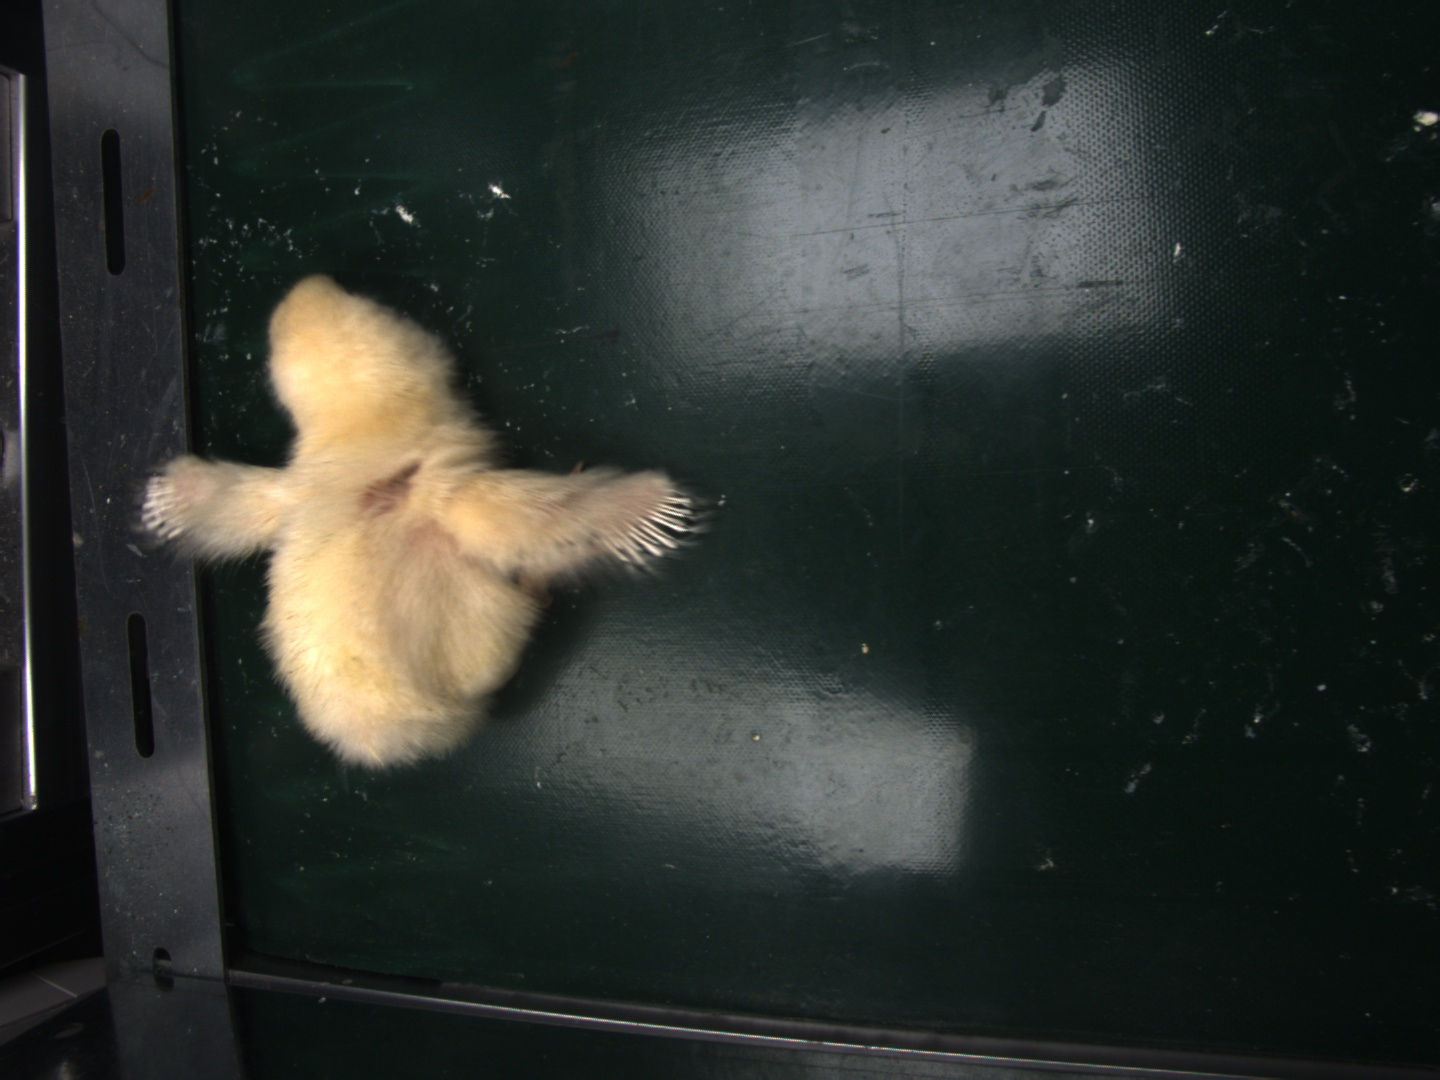male: (616, 493, 693, 562)
